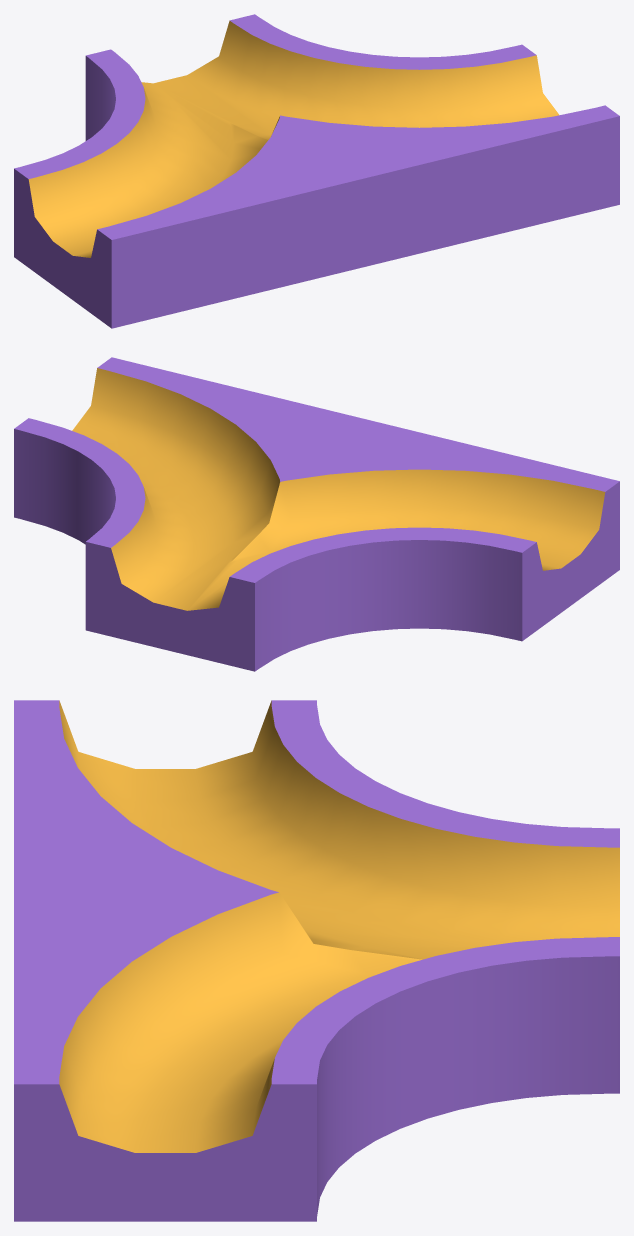
File: split-double-sides-solid-col.glb
3 views of the same model, one above another, from view 1: azimuth 30°, elevation 25°; view 2: azimuth 150°, elevation 25°; view 3: azimuth 270°, elevation 25° (orthographic). The views are drawn at different scales.
Visible parts, largest first — view 1: split-double-sides-solid-col; view 2: split-double-sides-solid-col; view 3: split-double-sides-solid-col.
Part boxes in pixels (<box>): split-double-sides-solid-col: <box>14,14,619,328</box>; split-double-sides-solid-col: <box>14,357,619,671</box>; split-double-sides-solid-col: <box>14,700,619,1221</box>.
Size of the model in its own units: 3 by 0.5 by 2.
Materials: 1 (1 with a texture image).
